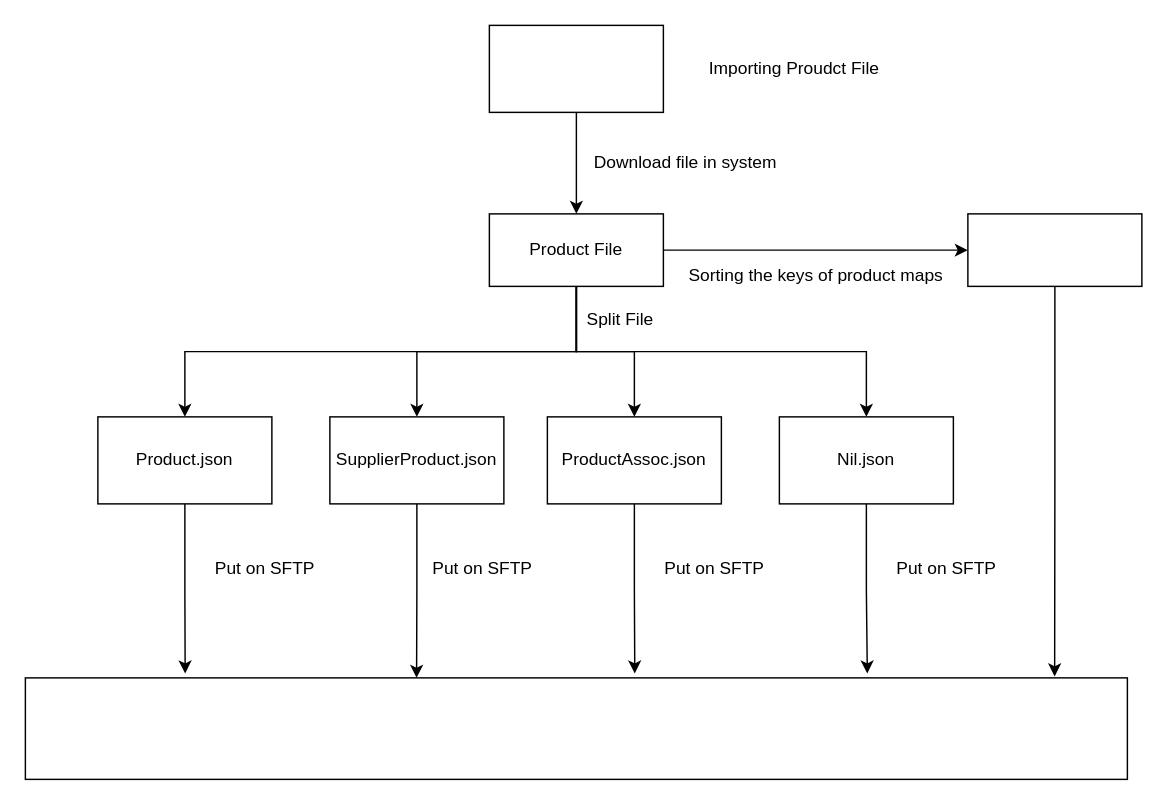
Some shapes in this 1167 by 805 pixel diagram are drawn without their labels. The shapes that lost their labels are listed below. From the top down, each one's centre as x and y in pixels, then its label:
At (x=575, y=68): "SFTP Product File".
At (x=1054, y=249): "Storing file on local system".
At (x=575, y=727): "SFTP folder".
